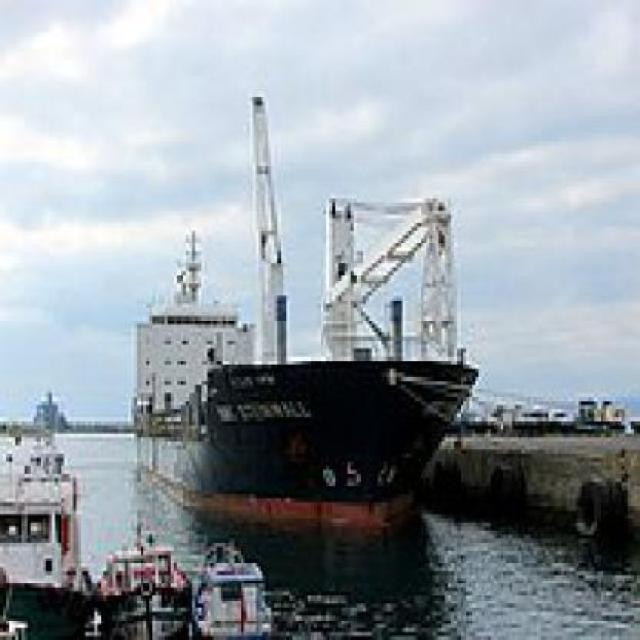container: (126, 82, 489, 553)
